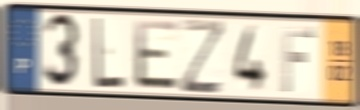3: (39, 12, 85, 92)
4: (232, 24, 268, 94)
E: (132, 17, 181, 93)
F: (279, 24, 317, 95)
L: (92, 14, 126, 90)
Z: (180, 17, 228, 96)
